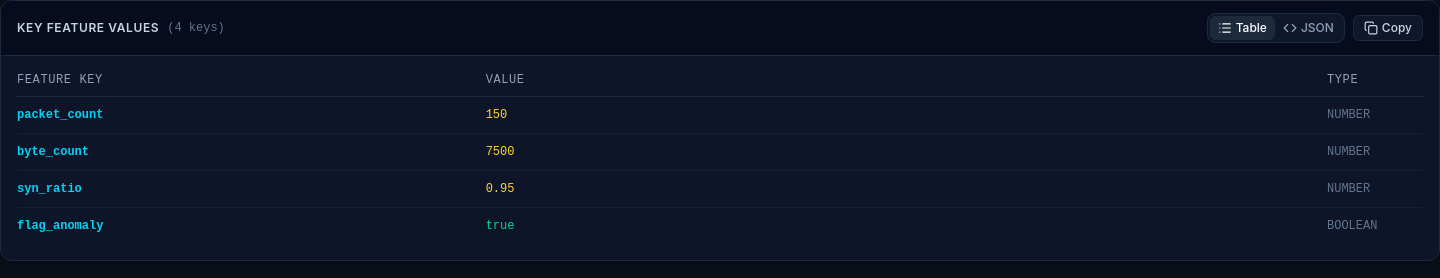
Test: JsonEvidenceViewer › can switch to raw JSON view mode
This screenshot has width=1440, height=278.
Click the button titled "Raw JSON View": (1308, 28) [1275,16,1342,40]
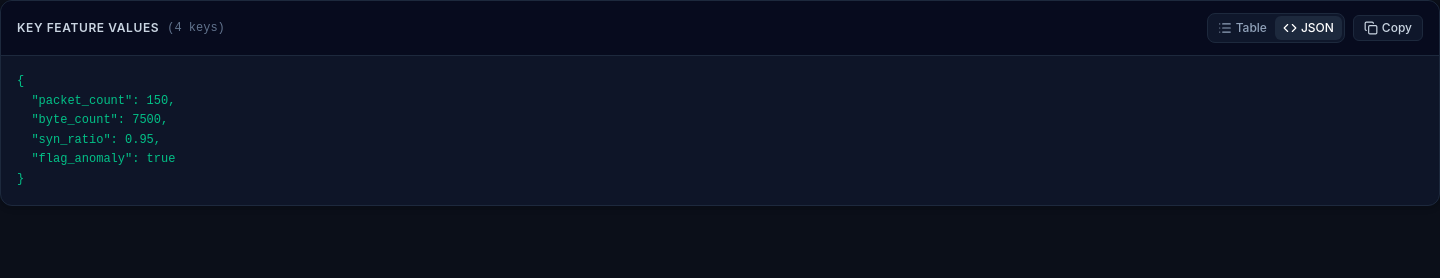
expect the text "\"packet_count\": 150" is shown: met, box [17,74,175,186]
